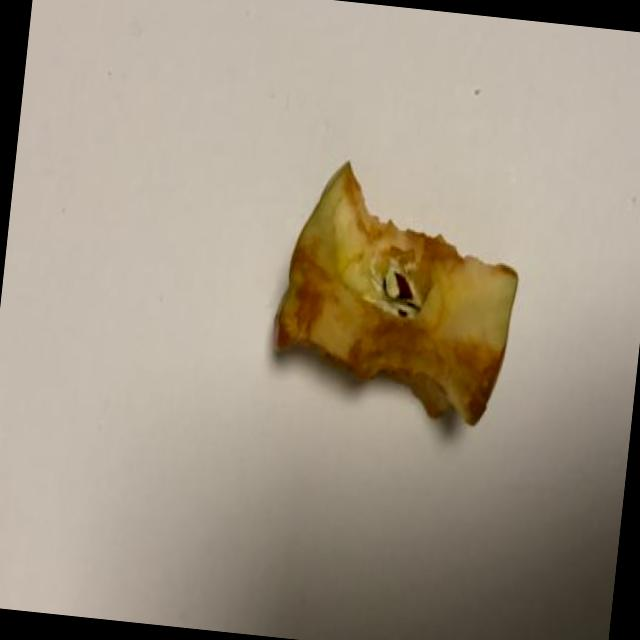thuc_an_thua: (273, 163, 518, 427)
